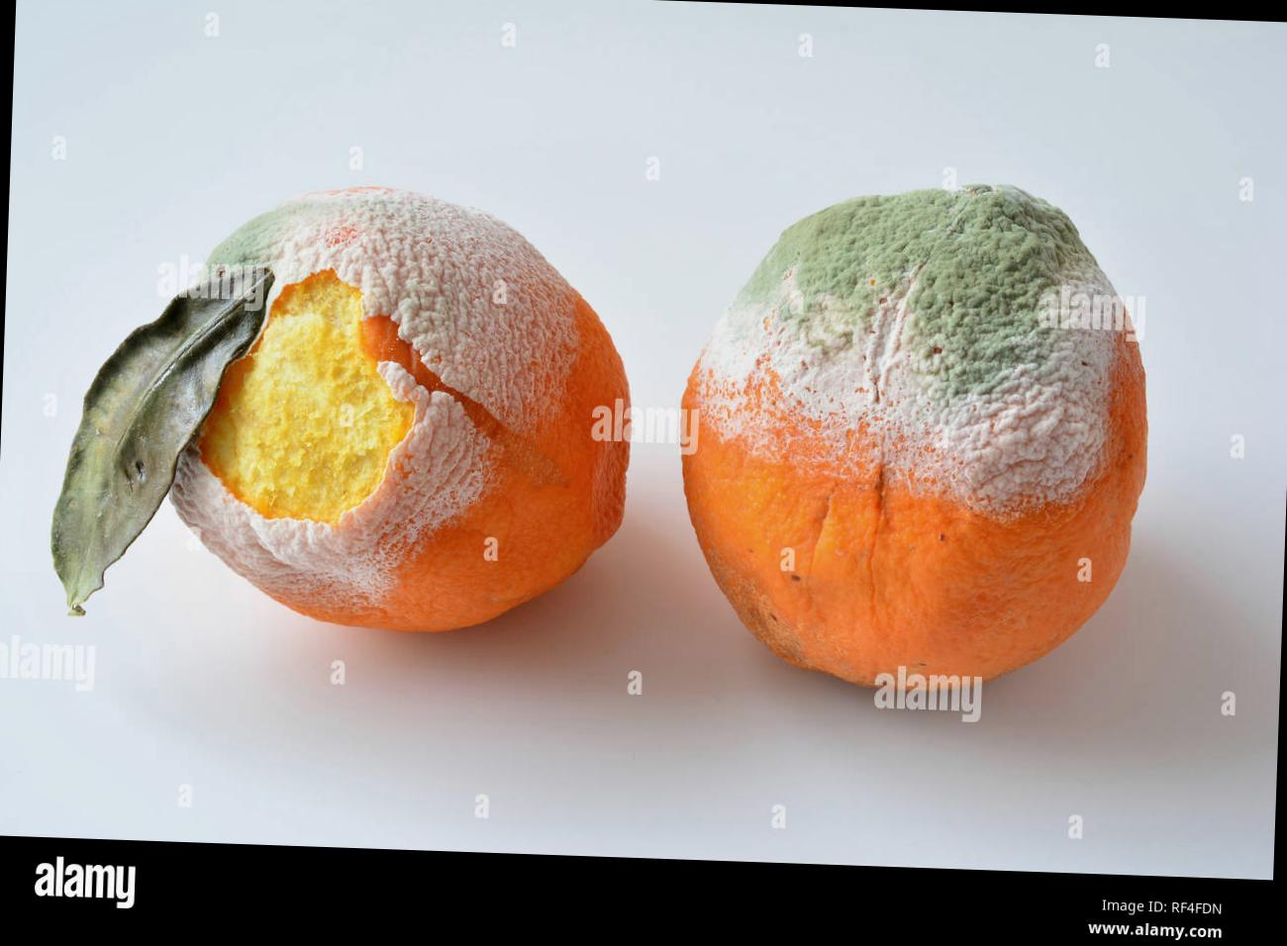Orange Rotten: (27, 137, 644, 732), (659, 163, 1195, 724)
